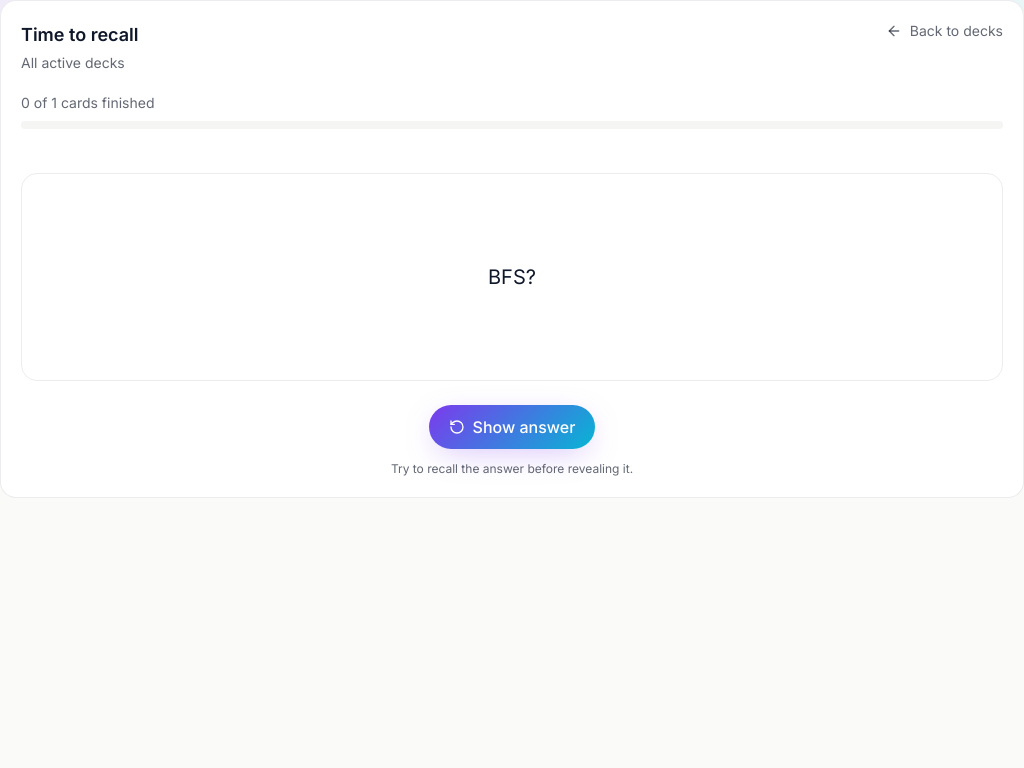
Scenario: focus timer and review interactions › requires answer reveal before a grade can be submitted
Expected: the text "Breadth-first search" is not shown
Expected: the button "Good" is not shown
Click the button "Show answer". click: (512, 427)
box: [429, 405, 595, 449]
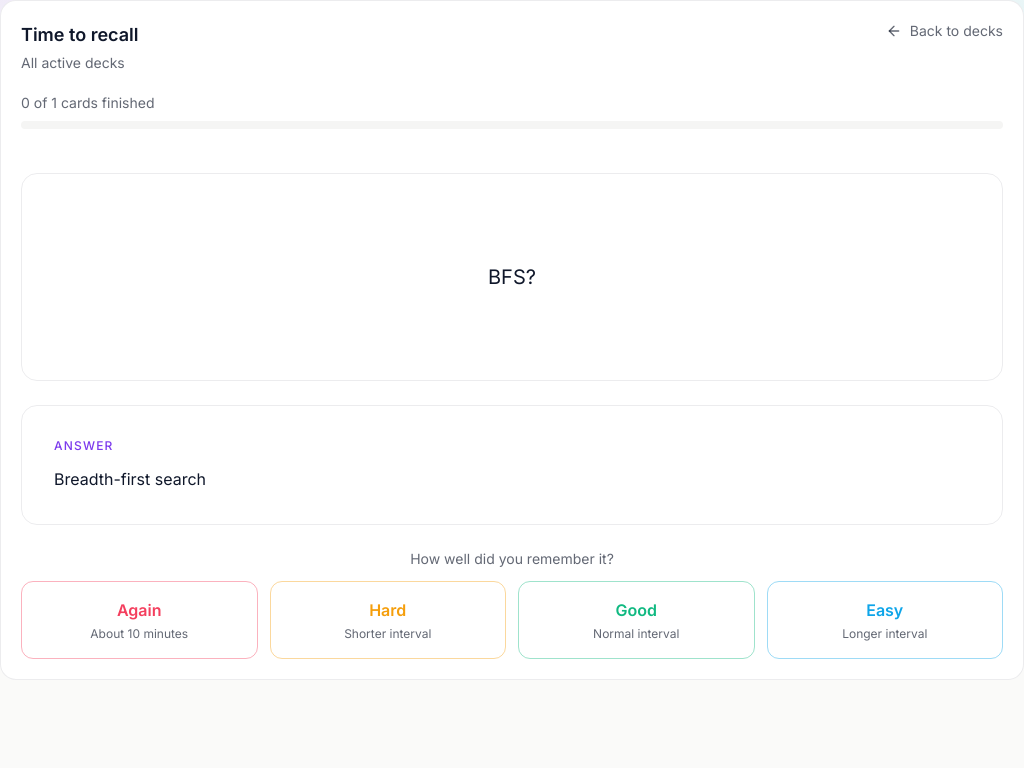
Expected: the text "Breadth-first search" is shown, [54, 469, 206, 489]
Click the button "Good Normal interval". click: (636, 620)
box: [518, 581, 754, 659]
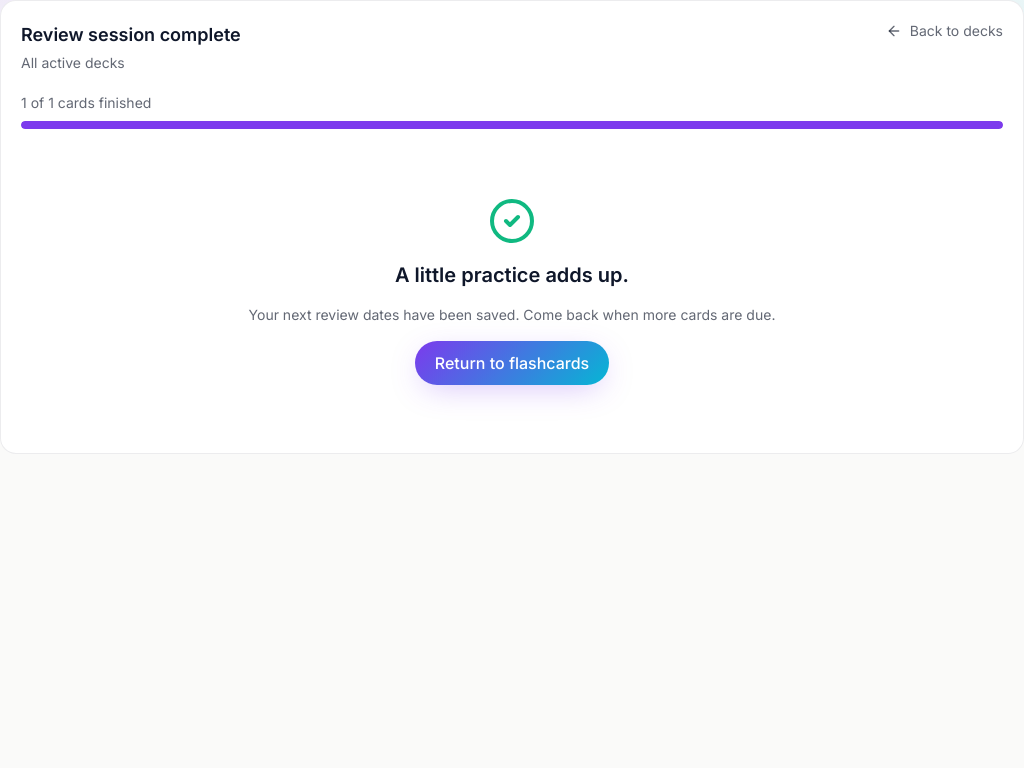
Expected: the heading "Review session complete" is shown, [21, 21, 241, 49]
